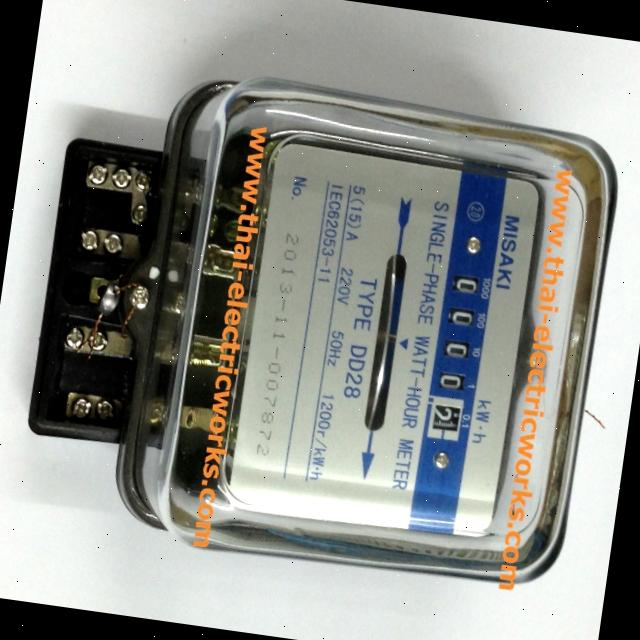digit_area: (422, 266, 492, 452)
